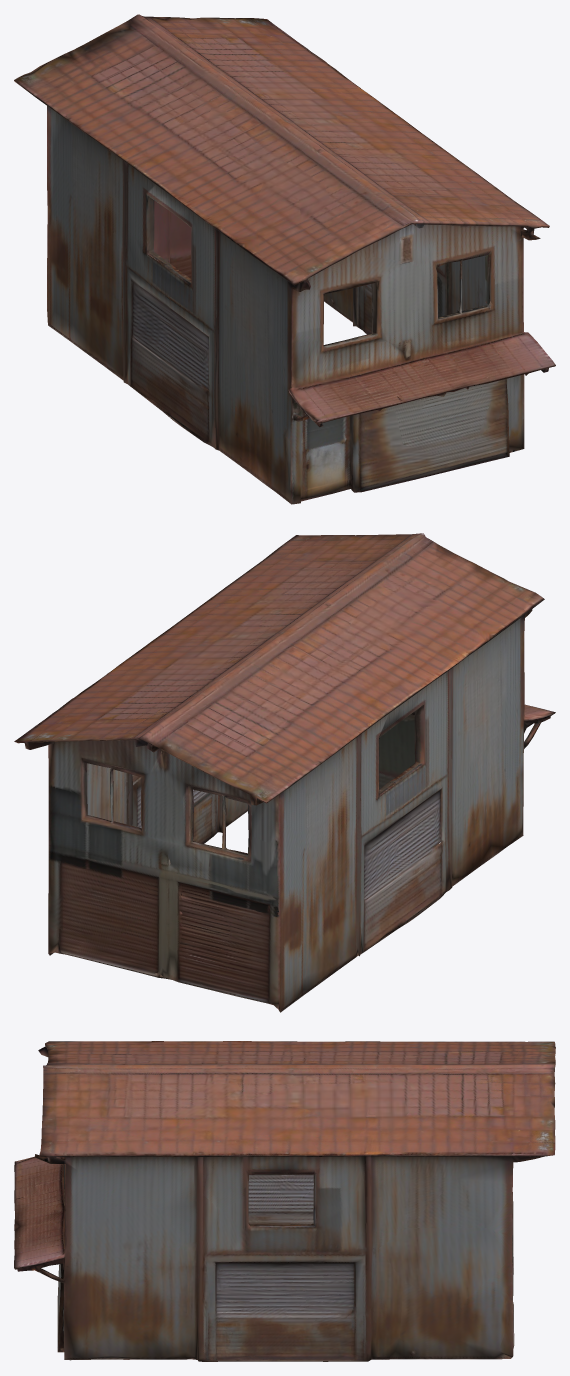
Rendered from metal_building_01.glb.
The picture shows the model from 3 angles, top to bottom: view 1: azimuth 30°, elevation 25°; view 2: azimuth 150°, elevation 25°; view 3: azimuth 270°, elevation 25°; orthographic projection. The views are drawn at different scales.
Size of the model in its own units: 0.9885 by 0.9959 by 2.
1 material, 1 textured.
